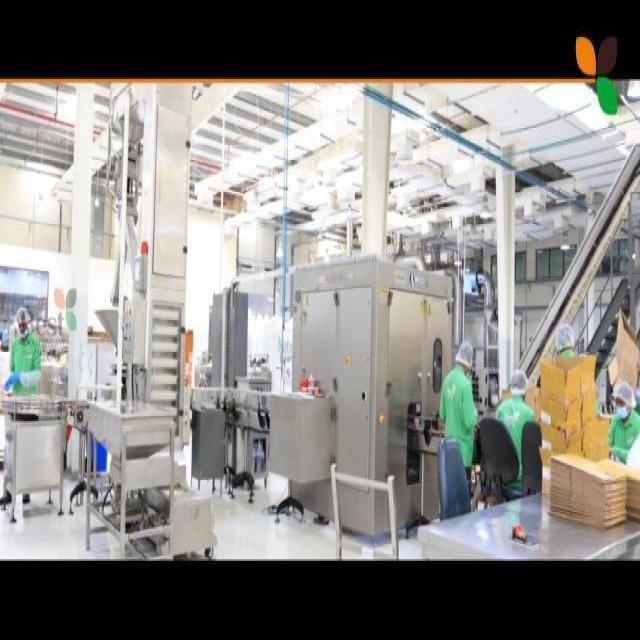gloved_hand: (3, 369, 29, 406)
